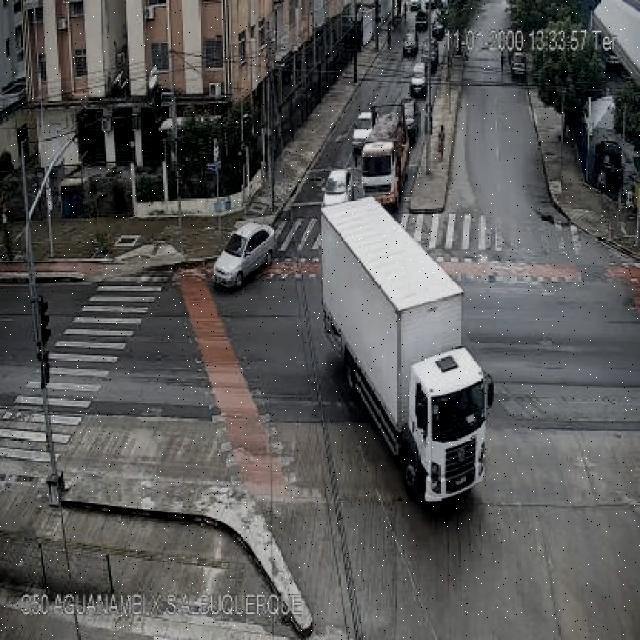Car: (212, 221, 277, 289), (322, 169, 356, 207), (351, 110, 378, 148), (399, 98, 421, 139), (420, 37, 438, 69), (410, 64, 427, 96), (510, 51, 528, 78), (403, 32, 418, 55), (432, 20, 444, 40)
Truck: (316, 197, 498, 508), (353, 107, 414, 203)
